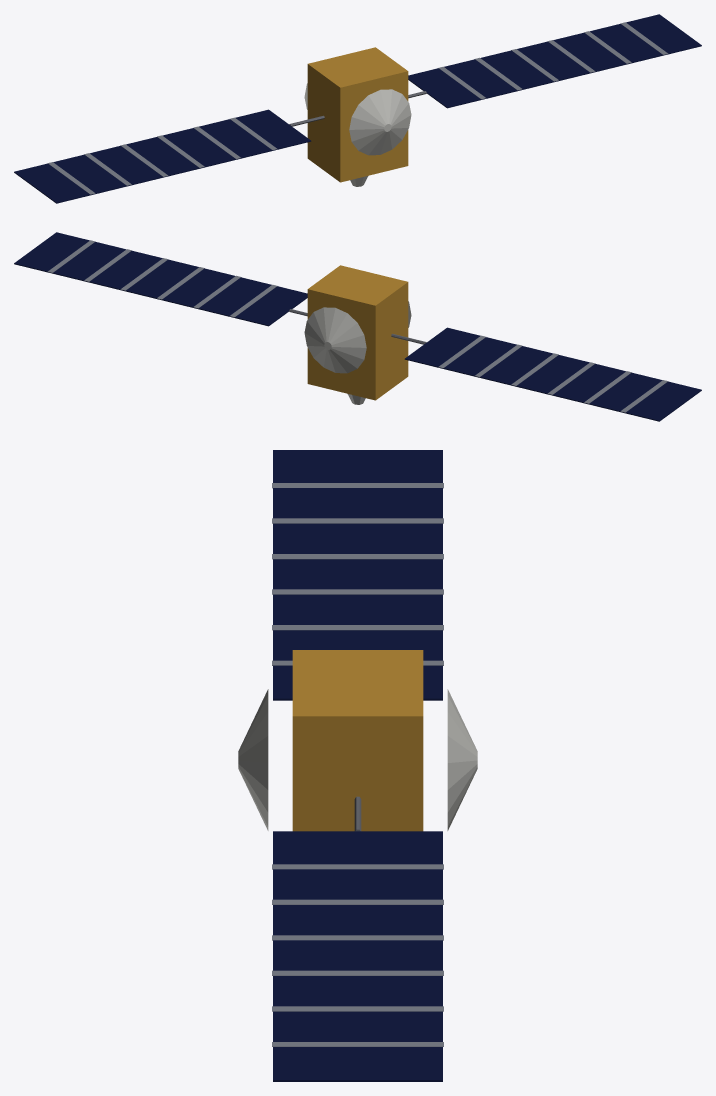
3 renders of one model, top to bottom at view 1: azimuth 30°, elevation 25°; view 2: azimuth 150°, elevation 25°; view 3: azimuth 270°, elevation 25°, orthographic. The views are drawn at different scales.
Visible parts, largest first — view 1: geo; view 2: geo; view 3: geo.
Boxes of the visible parts, x1,y1,x2,y2 form: geo: (14,14,701,203); geo: (14,232,701,421); geo: (238,450,477,1081).
Size of the model in its own units: 22.8 by 3.95 by 3.66.
